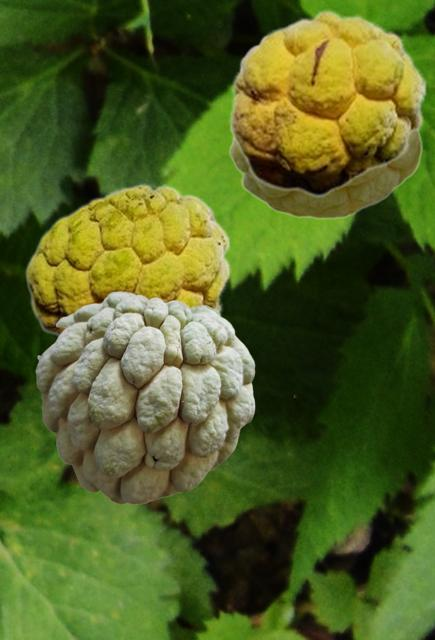atis: (35, 291, 254, 503), (228, 9, 426, 196), (228, 40, 421, 218), (24, 183, 230, 341)
